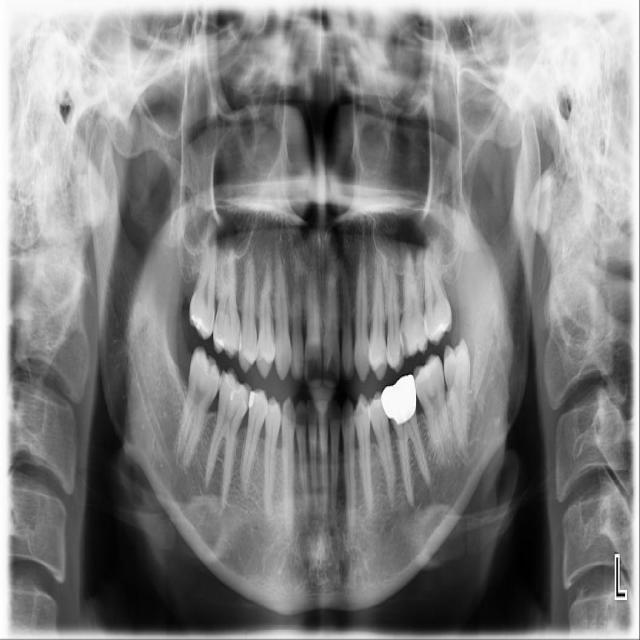Caries: (400, 333, 410, 359), (399, 345, 404, 367)
Crown: (380, 374, 417, 425)
Filling: (222, 372, 244, 401), (247, 392, 257, 409)
impacted tooth: (442, 341, 471, 458)
